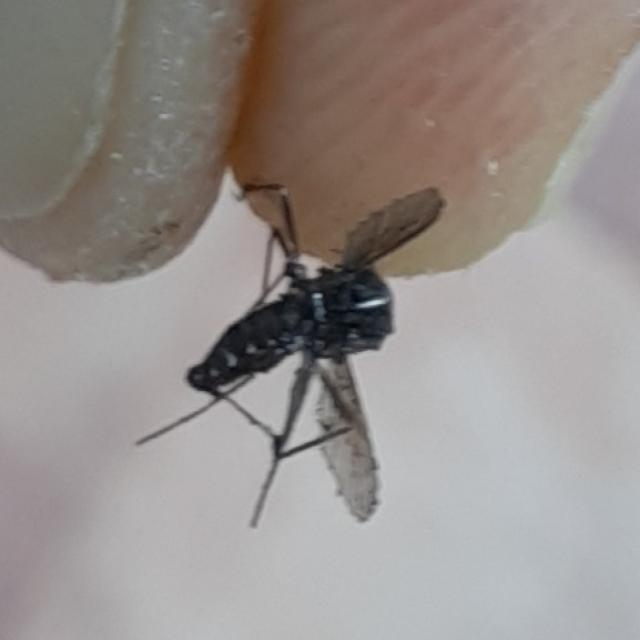albopictus: (126, 120, 457, 556)
